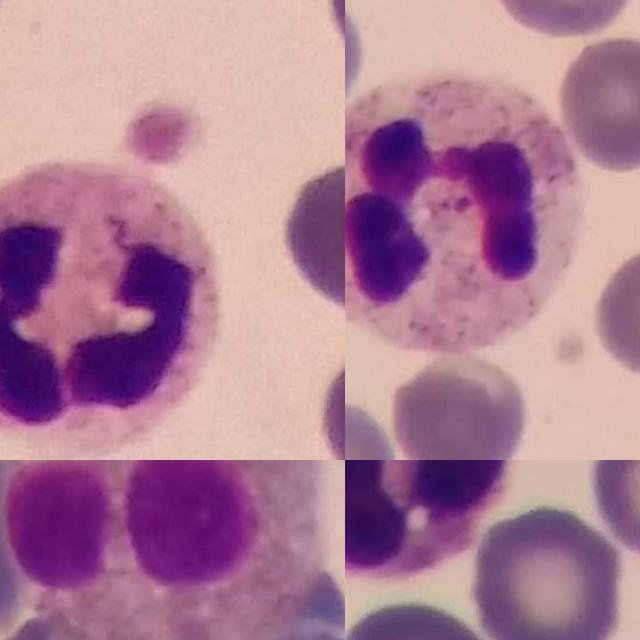Eosinophil: (8, 460, 331, 640)
Neutrophil: (345, 75, 584, 347), (0, 164, 223, 454), (345, 460, 520, 583)
